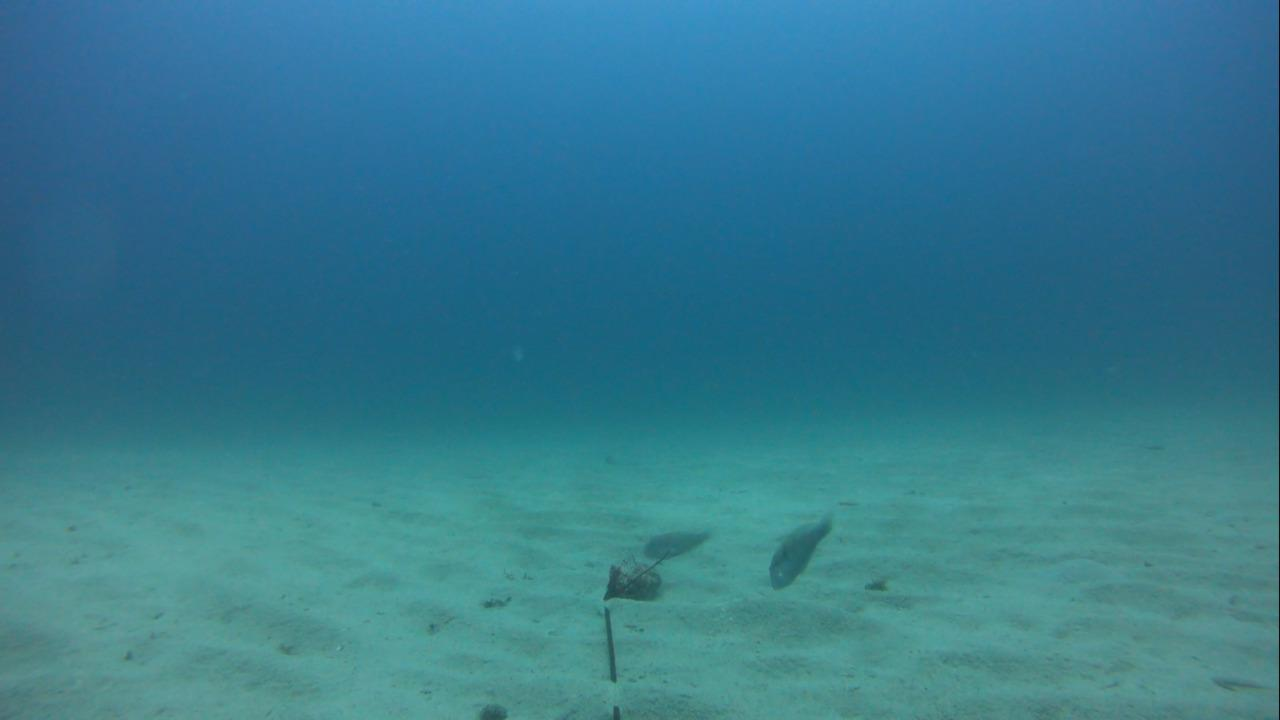raor: (767, 510, 836, 592), (641, 525, 719, 560)
